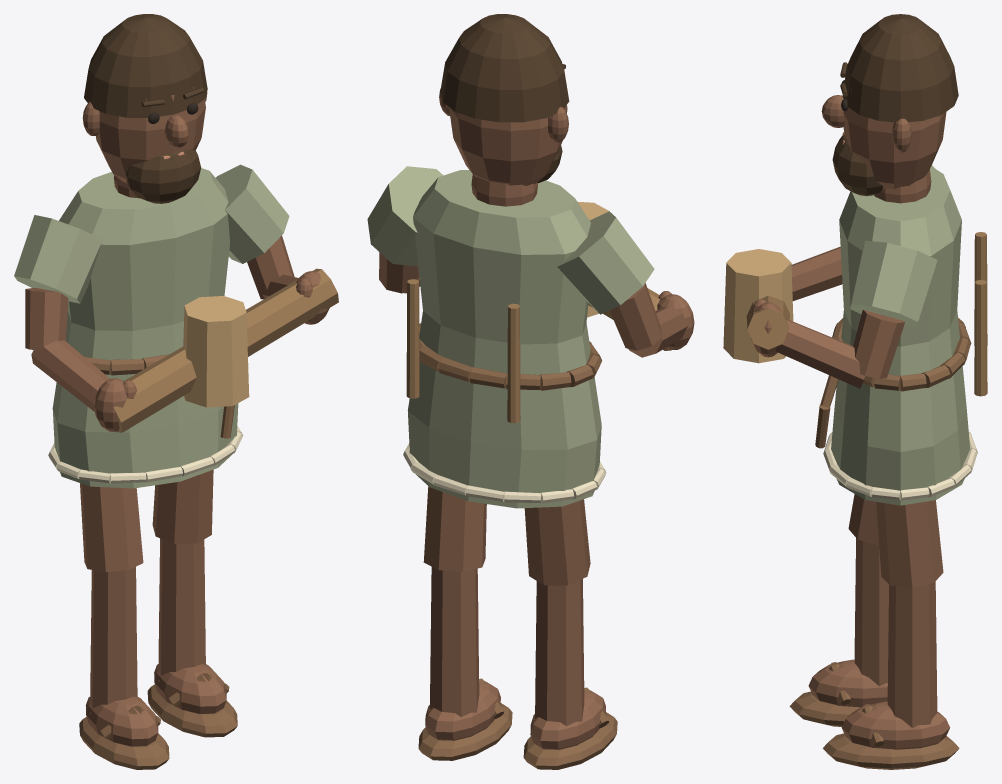
3 renders of one model, left to right at view 1: azimuth 30°, elevation 25°; view 2: azimuth 150°, elevation 25°; view 3: azimuth 270°, elevation 25°, orthographic. The views are drawn at different scales.
Parts seen in each view (by area): view 1: BA-0082 Traveling wheel seller batched; view 2: BA-0082 Traveling wheel seller batched; view 3: BA-0082 Traveling wheel seller batched.
Part boxes in pixels (x1,y1,x2,y2): BA-0082 Traveling wheel seller batched: [14, 14, 338, 769]; BA-0082 Traveling wheel seller batched: [367, 14, 694, 769]; BA-0082 Traveling wheel seller batched: [723, 14, 987, 769].
Size of the model in its own units: 0.6831 by 1.74 by 0.5758.
